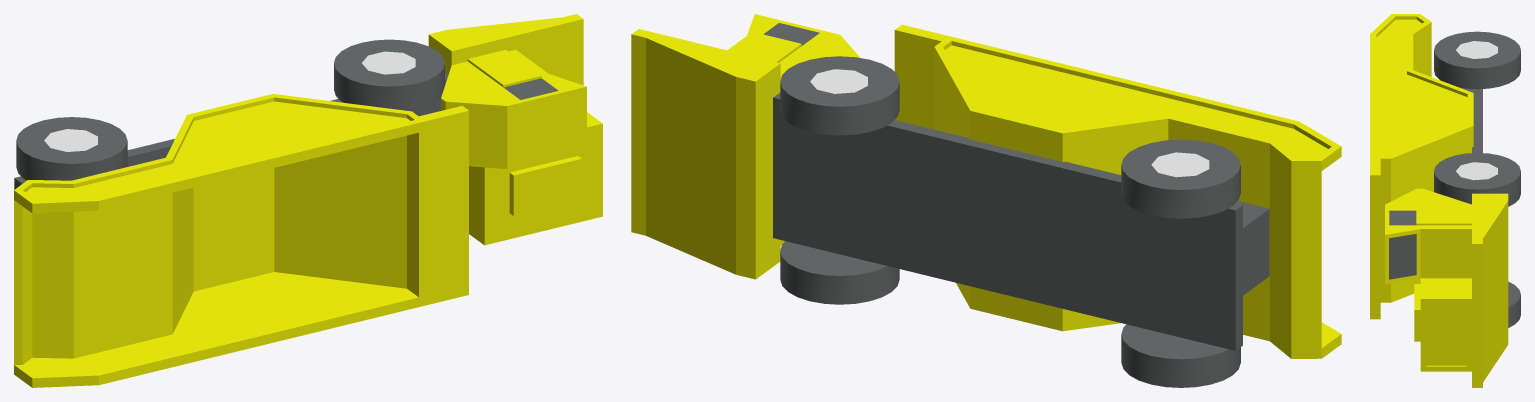
File: mine_truck.dae
The picture shows the model from 3 angles, left to right: view 1: azimuth 30°, elevation 25°; view 2: azimuth 150°, elevation 25°; view 3: azimuth 270°, elevation 25°; orthographic projection. The views are drawn at different scales.
Parts seen in each view (by area): view 1: coords_ME_ID119_MA_material_1, coords_ME_ID26_MA_material_1, coords_ME_ID125_MA_material_1, coords_ME_ID4_MA_material, coords_ME_ID12_MA_material, coords_ME_ID72_MA_material_3, coords_ME_ID112_MA_material_1, coords_ME_ID18_MA_material_0, coords_ME_ID88_MA_material_4, coords_ME_ID80_MA_material_4, coords_ME_ID52_MA_material_2; view 2: coords_ME_ID18_MA_material_0, coords_ME_ID119_MA_material_1, coords_ME_ID26_MA_material_1, coords_ME_ID125_MA_material_1, coords_ME_ID12_MA_material, coords_ME_ID4_MA_material, coords_ME_ID46_MA_material, coords_ME_ID40_MA_material, coords_ME_ID34_MA_material_0, coords_ME_ID80_MA_material_4, coords_ME_ID88_MA_material_4, coords_ME_ID52_MA_material_2; view 3: coords_ME_ID26_MA_material_1, coords_ME_ID119_MA_material_1, coords_ME_ID125_MA_material_1, coords_ME_ID12_MA_material, coords_ME_ID4_MA_material, coords_ME_ID60_MA_material_1, coords_ME_ID66_MA_material_2, coords_ME_ID18_MA_material_0, coords_ME_ID80_MA_material_4, coords_ME_ID88_MA_material_4, coords_ME_ID40_MA_material, coords_ME_ID52_MA_material_2 (+1 smaller).
Boxes of the visible parts, bbox=[...] form: coords_ME_ID119_MA_material_1: bbox=[14, 94, 468, 387]; coords_ME_ID26_MA_material_1: bbox=[428, 14, 602, 245]; coords_ME_ID125_MA_material_1: bbox=[23, 97, 414, 200]; coords_ME_ID4_MA_material: bbox=[334, 39, 444, 111]; coords_ME_ID12_MA_material: bbox=[16, 117, 127, 180]; coords_ME_ID72_MA_material_3: bbox=[451, 19, 583, 85]; coords_ME_ID112_MA_material_1: bbox=[509, 156, 581, 215]; coords_ME_ID18_MA_material_0: bbox=[14, 73, 448, 189]; coords_ME_ID88_MA_material_4: bbox=[362, 51, 415, 74]; coords_ME_ID80_MA_material_4: bbox=[44, 129, 97, 151]; coords_ME_ID52_MA_material_2: bbox=[503, 78, 558, 99]; coords_ME_ID18_MA_material_0: bbox=[773, 92, 1242, 350]; coords_ME_ID119_MA_material_1: bbox=[894, 24, 1341, 358]; coords_ME_ID26_MA_material_1: bbox=[631, 14, 860, 279]; coords_ME_ID125_MA_material_1: bbox=[943, 41, 1331, 157]; coords_ME_ID12_MA_material: bbox=[1121, 139, 1240, 218]; coords_ME_ID4_MA_material: bbox=[780, 56, 899, 135]; coords_ME_ID46_MA_material: bbox=[1121, 324, 1240, 387]; coords_ME_ID40_MA_material: bbox=[780, 241, 899, 304]; coords_ME_ID34_MA_material_0: bbox=[1236, 201, 1269, 295]; coords_ME_ID80_MA_material_4: bbox=[1151, 152, 1209, 177]; coords_ME_ID88_MA_material_4: bbox=[810, 69, 867, 93]; coords_ME_ID52_MA_material_2: bbox=[763, 23, 819, 45]; coords_ME_ID26_MA_material_1: bbox=[1385, 188, 1508, 387]; coords_ME_ID119_MA_material_1: bbox=[1370, 14, 1473, 319]; coords_ME_ID125_MA_material_1: bbox=[1376, 16, 1467, 156]; coords_ME_ID12_MA_material: bbox=[1434, 31, 1520, 89]; coords_ME_ID4_MA_material: bbox=[1434, 153, 1520, 204]; coords_ME_ID60_MA_material_1: bbox=[1426, 304, 1466, 366]; coords_ME_ID66_MA_material_2: bbox=[1389, 234, 1416, 279]; coords_ME_ID18_MA_material_0: bbox=[1472, 89, 1482, 152]; coords_ME_ID80_MA_material_4: bbox=[1456, 41, 1497, 58]; coords_ME_ID88_MA_material_4: bbox=[1456, 162, 1497, 180]; coords_ME_ID40_MA_material: bbox=[1508, 281, 1520, 327]; coords_ME_ID52_MA_material_2: bbox=[1389, 210, 1416, 225].
Bounding box in the file's own units: 100 × 29.24 × 27.77.
